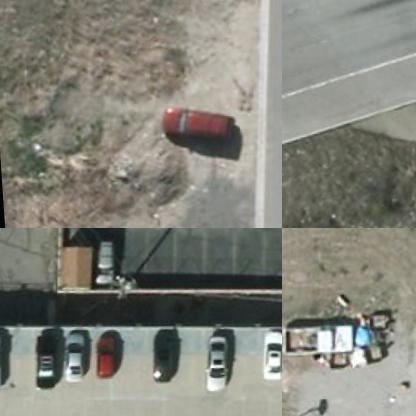car: (154, 106, 233, 154), (198, 329, 232, 398), (89, 232, 127, 290), (148, 329, 184, 381), (87, 330, 123, 382), (57, 332, 92, 384), (31, 332, 62, 390), (254, 333, 281, 389)
pickup: (282, 318, 350, 361)
